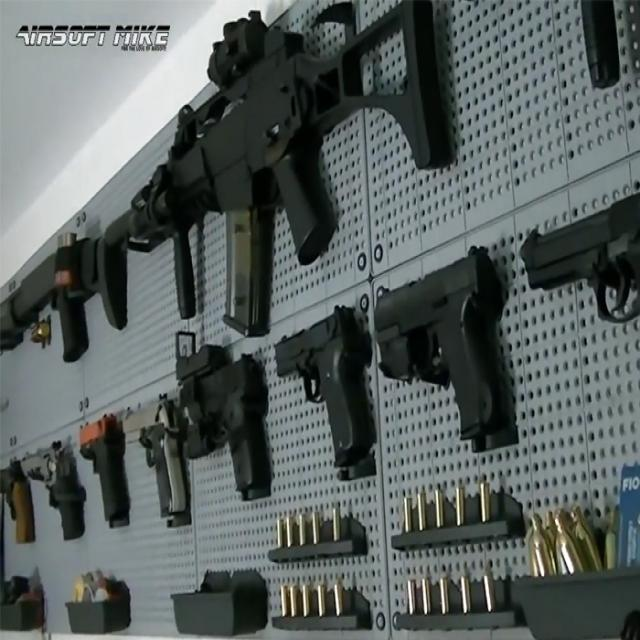HandGun: (375, 247, 494, 442), (275, 306, 376, 468), (176, 332, 271, 502), (519, 192, 639, 324), (123, 401, 190, 531), (20, 436, 87, 541), (77, 413, 132, 530), (0, 462, 36, 545)
Rifle: (103, 0, 454, 338)
